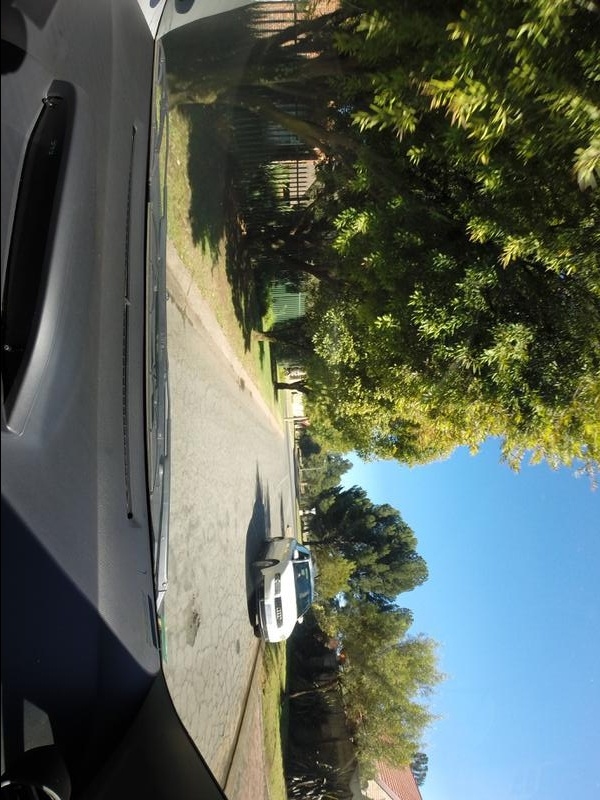pothole: (181, 596, 200, 649), (233, 640, 241, 662)
